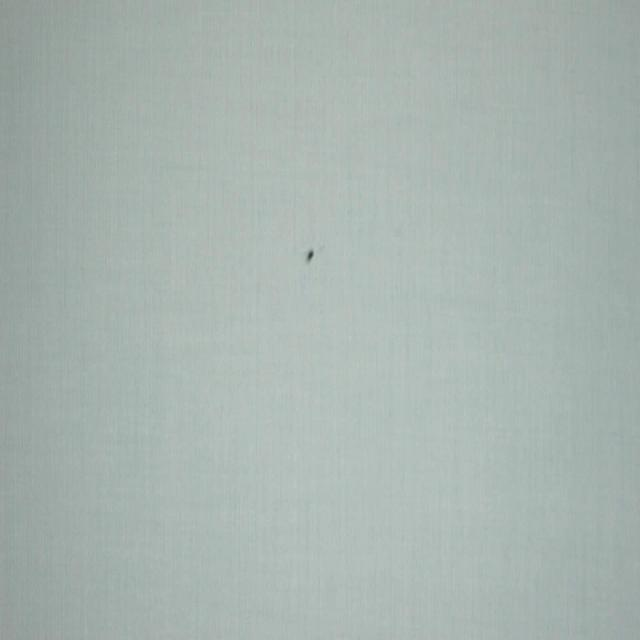dirty: (305, 245, 316, 263)
